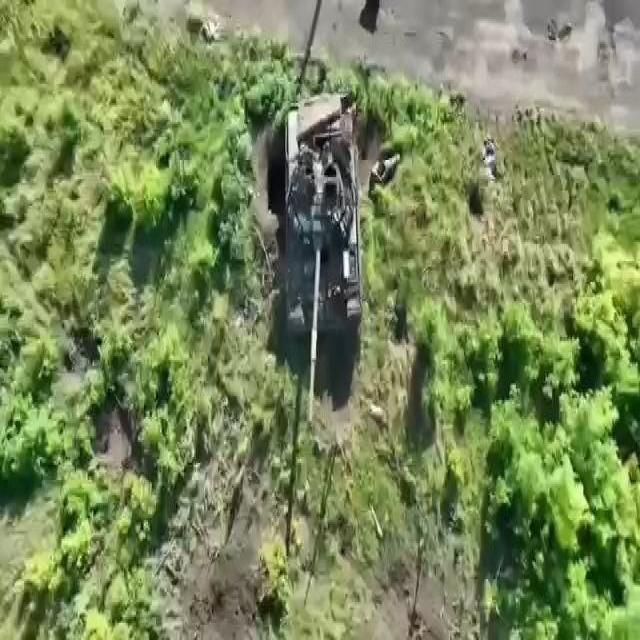MBT: (283, 88, 365, 429)
